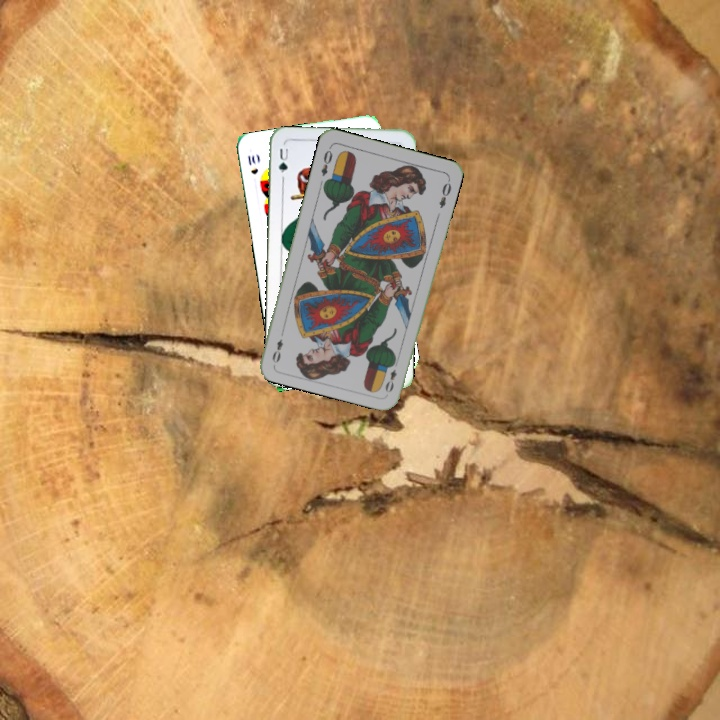EO: (381, 356, 400, 395), (317, 143, 335, 179)
GU: (275, 144, 291, 176)
S10: (244, 151, 260, 177)
